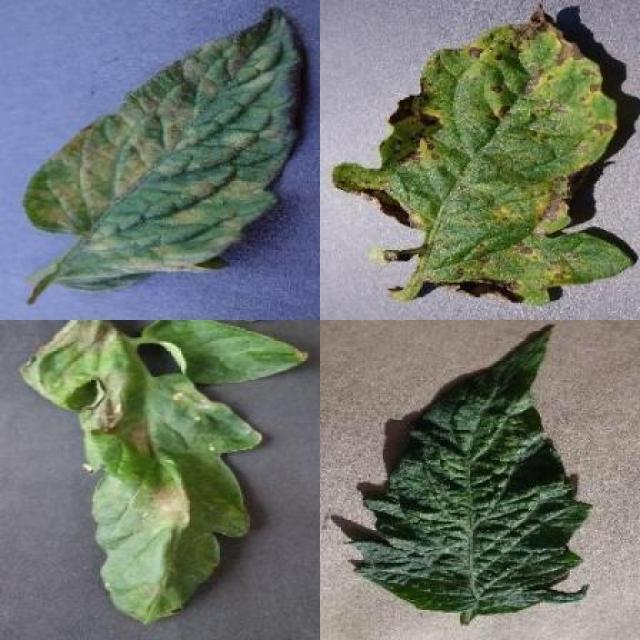Late Blight: (16, 319, 308, 626)
Leaf Mold: (23, 3, 308, 290)
Septoria: (333, 6, 636, 307)
Spider Mites: (344, 325, 590, 612)
